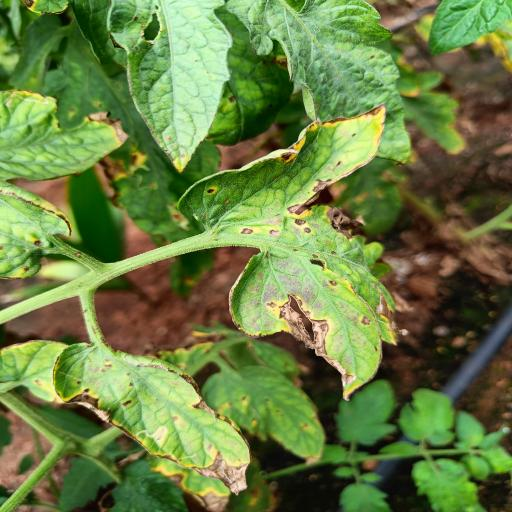Early Blight: (224, 200, 402, 404), (49, 342, 250, 494), (174, 100, 393, 217), (0, 186, 76, 284)
